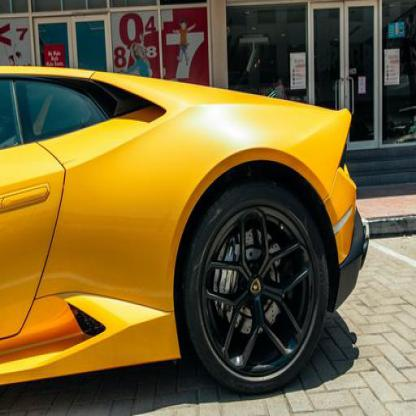Tire: (182, 178, 328, 396)
